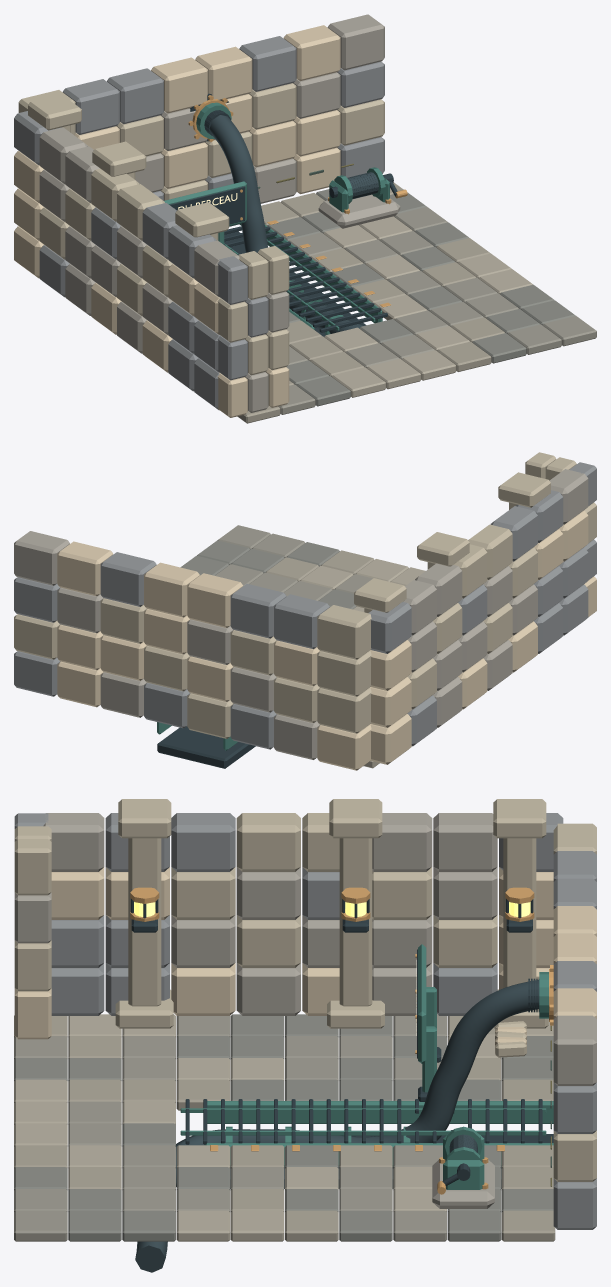
File: crypte_berceau.glb
3 views of the same model, one above another, from view 1: azimuth 30°, elevation 25°; view 2: azimuth 150°, elevation 25°; view 3: azimuth 270°, elevation 25° (orthographic). The views are drawn at different scales.
Visible parts, largest first — view 1: crypte_berceau; view 2: crypte_berceau; view 3: crypte_berceau.
Part boxes in pixels (x1,y1,x2,y2): crypte_berceau: (14,14,596,423); crypte_berceau: (14,452,596,770); crypte_berceau: (14,799,596,1272).
Bounding box in the file's own units: 8.65 × 4.53 × 9.25.
